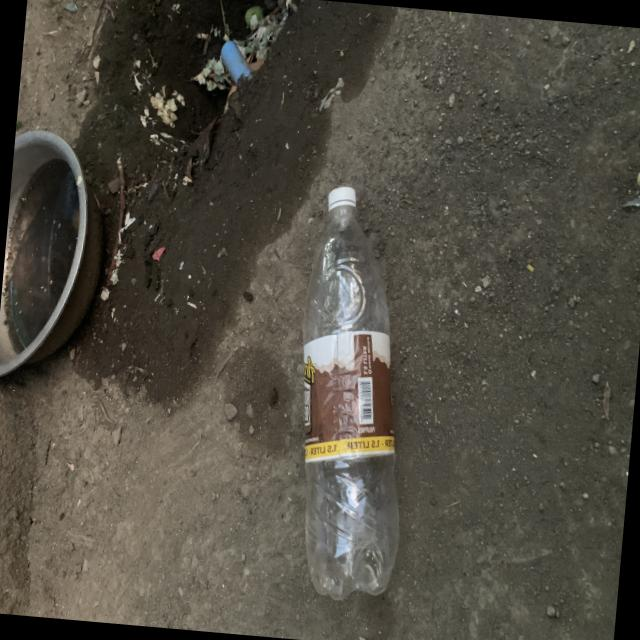Bottle: (303, 185, 398, 598)
